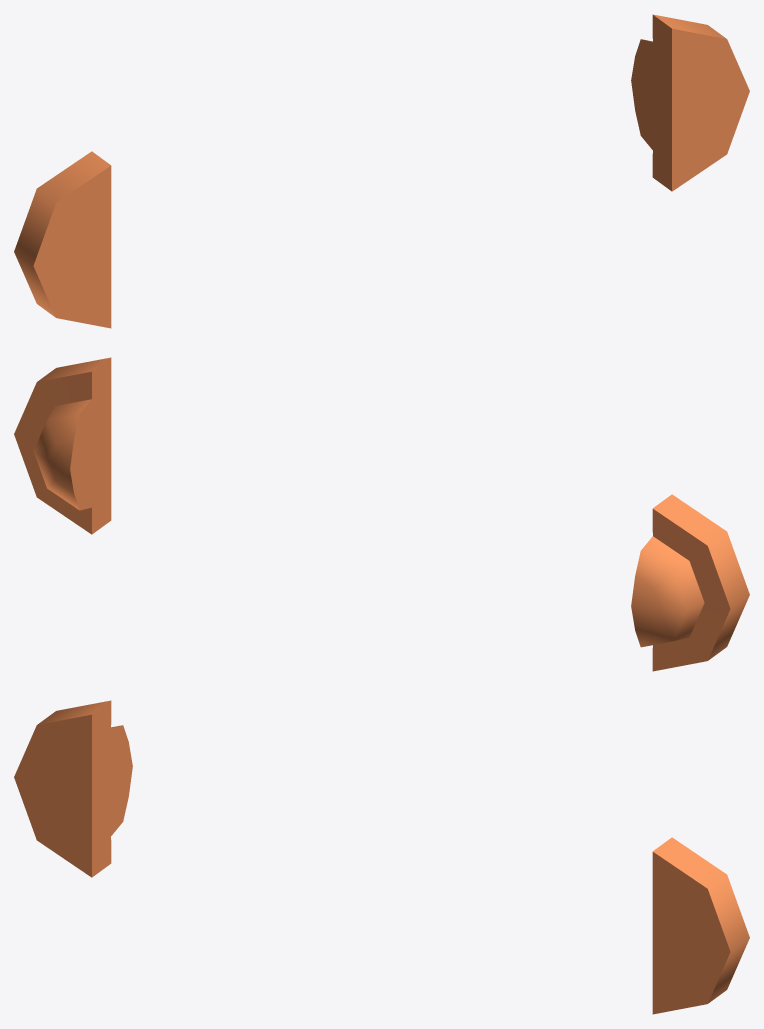
The model's file is Ears_D_White.fbx.
3 renders of one model, top to bottom at view 1: azimuth 30°, elevation 25°; view 2: azimuth 150°, elevation 25°; view 3: azimuth 330°, elevation 25°, orthographic.
Visible parts, largest first — view 1: Ears_D_White; view 2: Ears_D_White; view 3: Ears_D_White.
Boxes of the visible parts, x1,y1,x2,y2 form: Ears_D_White: (14,14,749,328); Ears_D_White: (14,357,749,671); Ears_D_White: (14,700,749,1014).
Bounding box in the file's own units: 126 × 27.31 × 12.48.
